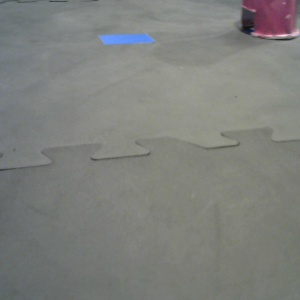middle: (1, 1, 70, 48)
